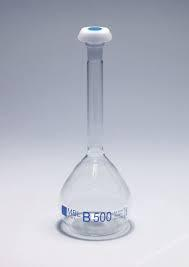Volumetric flask: (51, 24, 143, 238)
